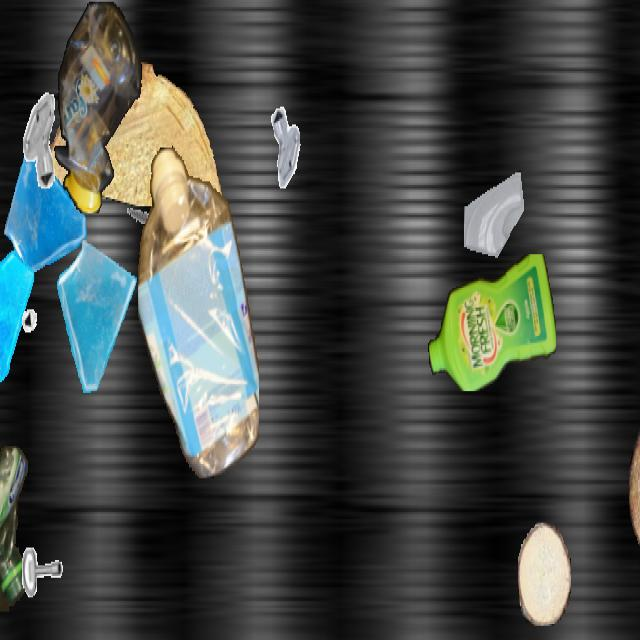glass: (51, 236, 143, 400), (3, 135, 91, 292), (464, 171, 526, 281), (0, 244, 34, 382)
metal: (9, 89, 67, 192), (16, 539, 72, 638), (264, 101, 312, 187), (122, 185, 166, 263), (19, 277, 57, 345)
plastic: (138, 144, 258, 478), (53, 2, 143, 212), (428, 255, 556, 390), (0, 443, 29, 638)
wood: (47, 62, 233, 204), (518, 522, 570, 626), (629, 384, 640, 580)
